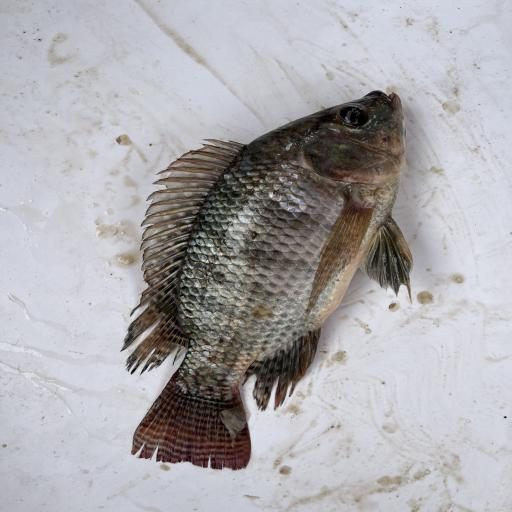Tilapia: (121, 91, 414, 471)
